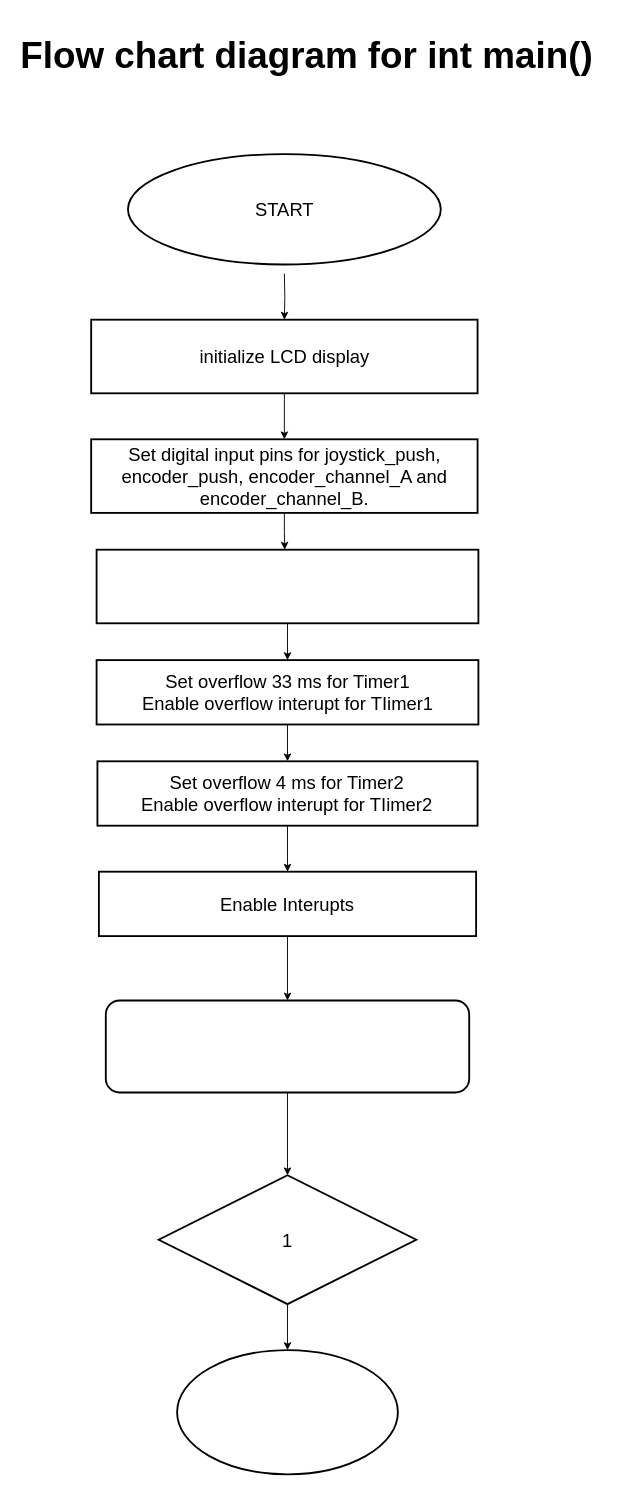
Image size: 629x1490. Some labels were removed from this diagram. The centre of each missing label's shape, as x and y in pixels:
"Configure Analog to Digital Convertor" goes at point 287,586.
"END" goes at point 287,1412.
"While" goes at point 287,1046.
